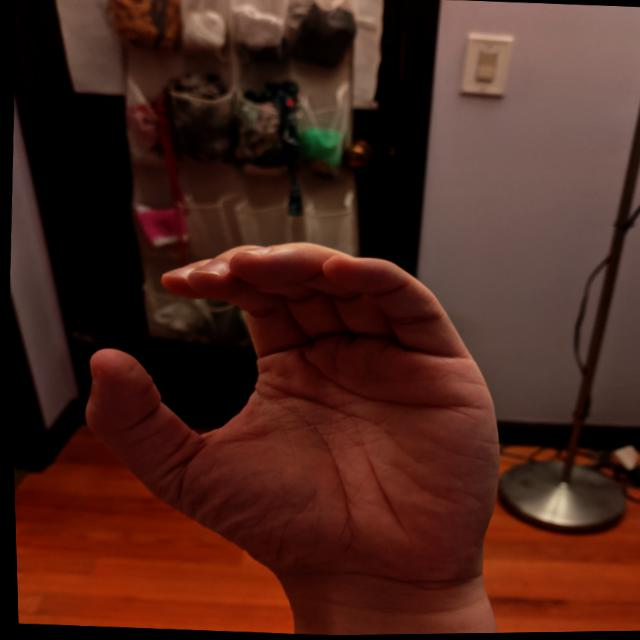C: (59, 224, 522, 610)
